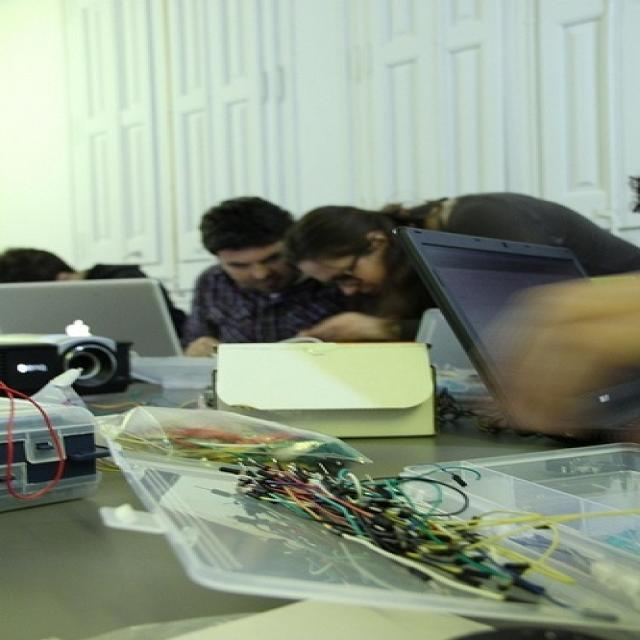Cable: (232, 441, 576, 605)
